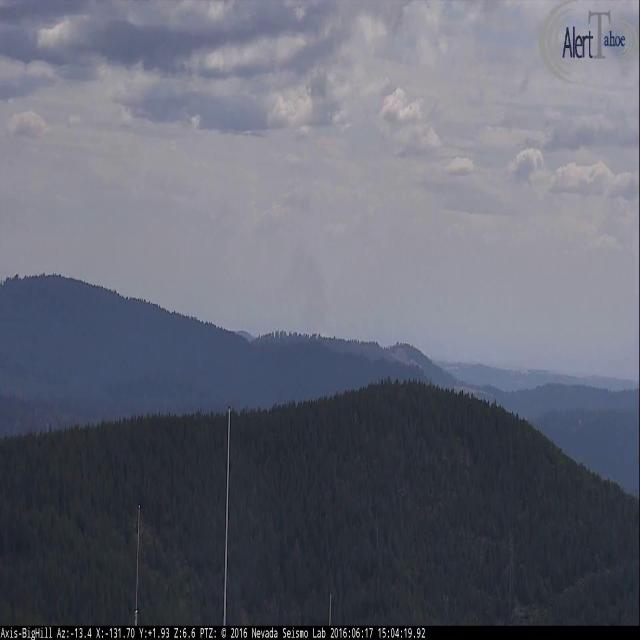smoke: (272, 228, 328, 335)
